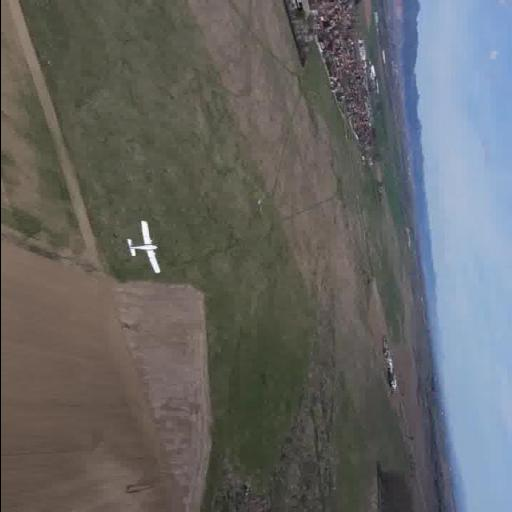uav: (116, 220, 166, 275)
